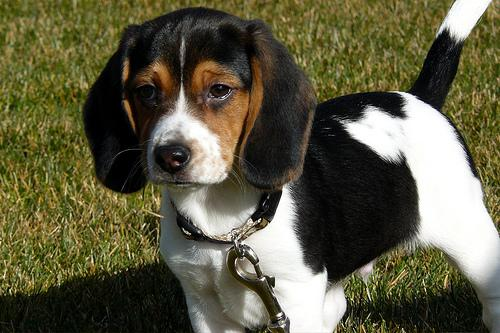dog-beagle: (81, 7, 315, 191)
